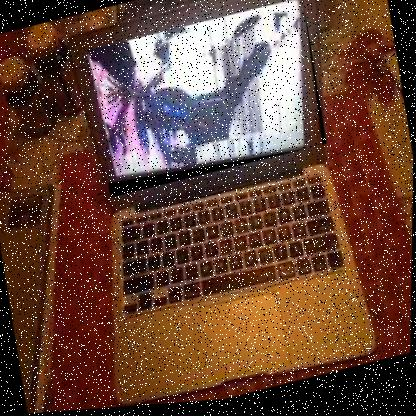crack: (84, 0, 329, 202)
